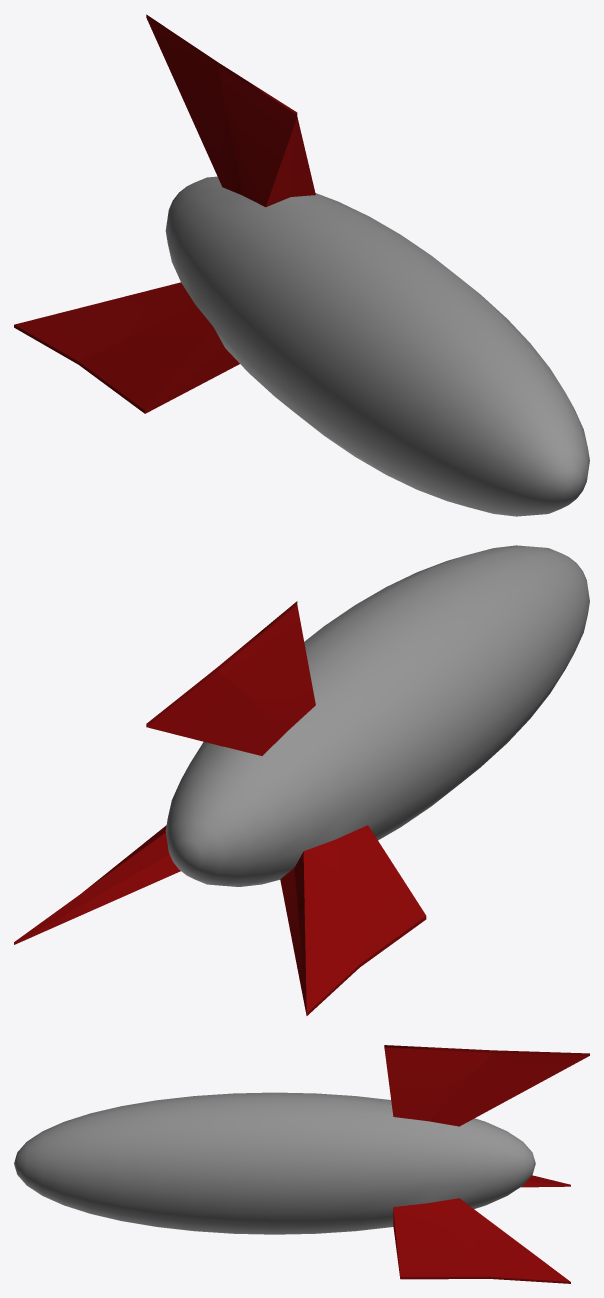
File: missile.fbx
3 views of the same model, one above another, from view 1: azimuth 30°, elevation 25°; view 2: azimuth 150°, elevation 25°; view 3: azimuth 270°, elevation 25° (orthographic). The views are drawn at different scales.
Visible parts, largest first — view 1: pSphere1; view 2: pSphere1; view 3: pSphere1.
Boxes of the visible parts, x1,y1,x2,y2 form: pSphere1: (14, 14, 589, 516); pSphere1: (14, 545, 589, 1015); pSphere1: (14, 1045, 589, 1283).
Size of the model in its own units: 0.3195 by 0.2917 by 0.7999.
